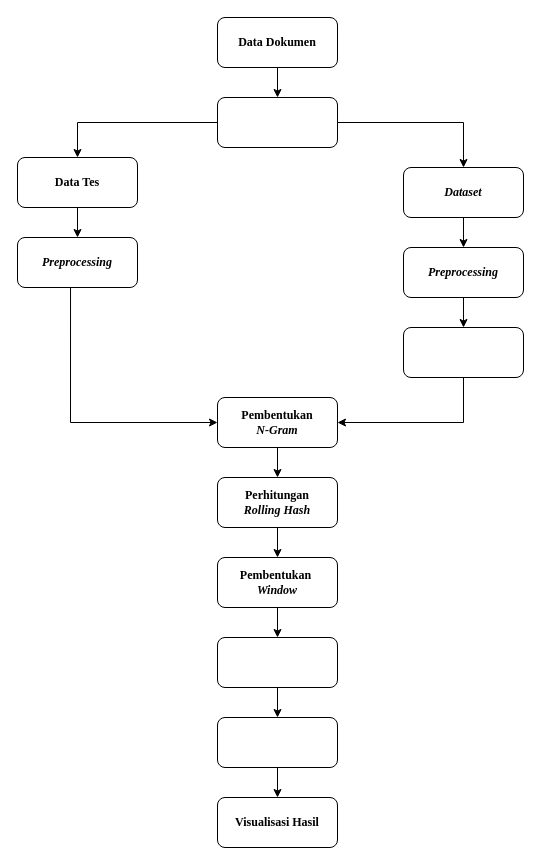
This 541x865 diagram has some shape labels left out. The shapes that lost their labels are listed below. From the top down, each one's box as (x1, y1, x2, y2) in pixels, then its label:
(216, 96, 338, 148): Pembagian Data
(402, 326, 524, 378): Database
(216, 636, 338, 688): Pencarian Fingerprint
(216, 716, 338, 768): Penerapan metode Jaccard Similarity
